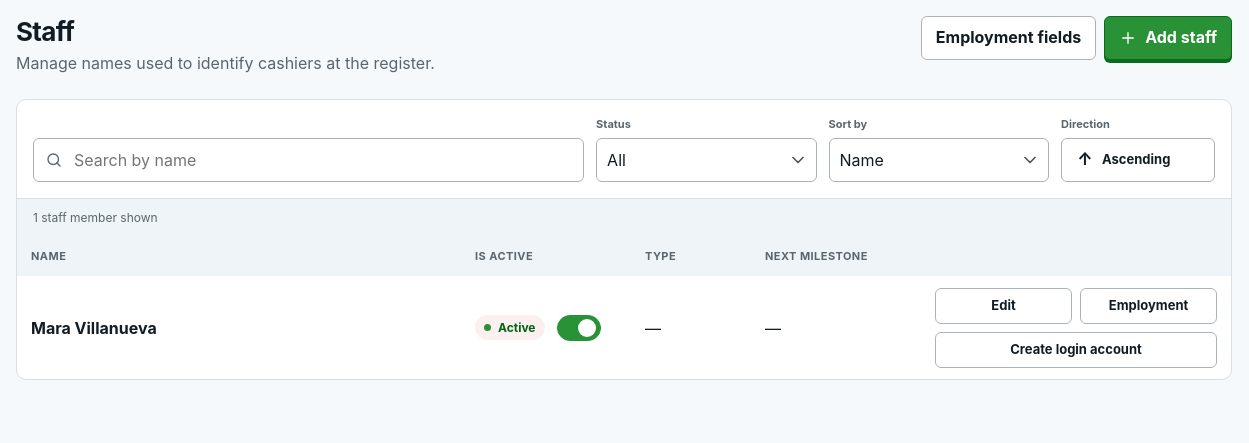
Test: staff roster page › deactivates inline without deleting the staff member
Step 1. Click the switch named "Deactivate Mara Villanueva" → coordinates (578, 327), box 556,305 -> 600,349
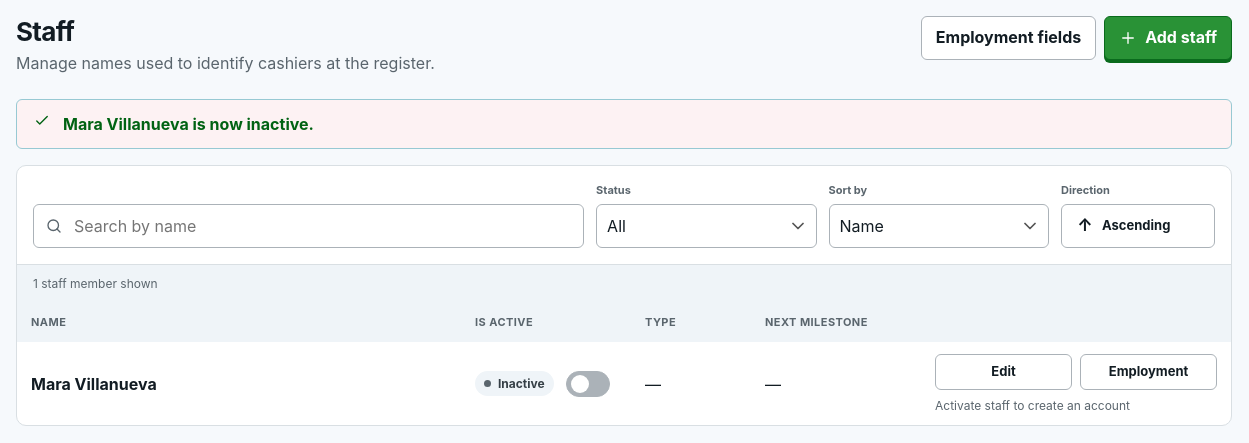
Check: the text "Mara Villanueva is now inactive." is shown, box 63,112 -> 314,136
Check: the text "Inactive" is shown, box 475,371 -> 554,396
